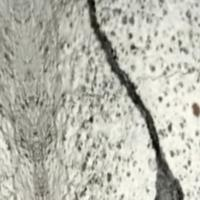crack: (82, 0, 188, 199)
